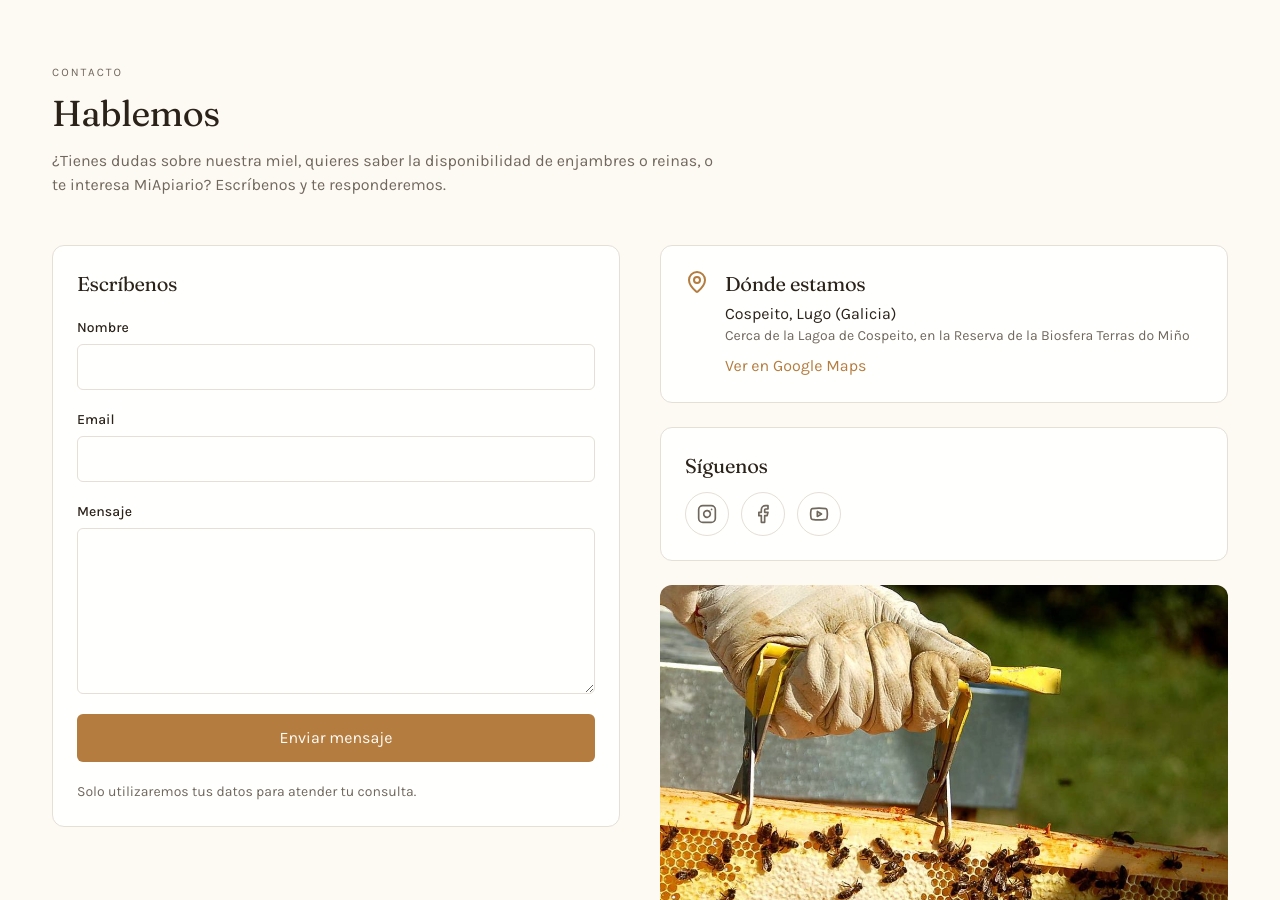
it: ContactView › muestra el error del servidor y pide un captcha nuevo
The width and height of the screenshot is (1280, 900).
Type "Ana" into the field with id "contact-name". click: x=336, y=367
box: [77, 344, 595, 390]
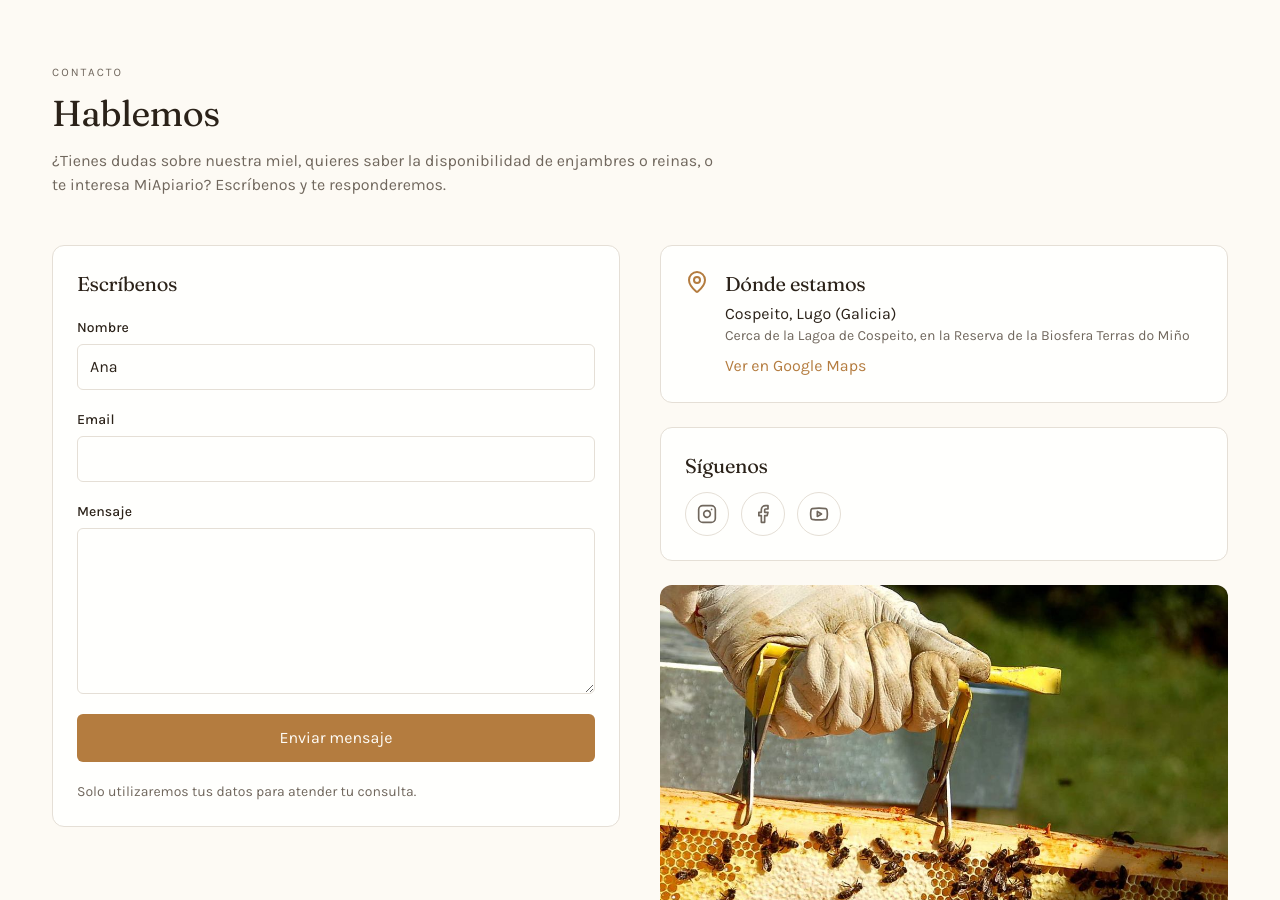
Type "ana@test.com" into the field with id "contact-email". click: x=336, y=459
box: [77, 436, 595, 482]
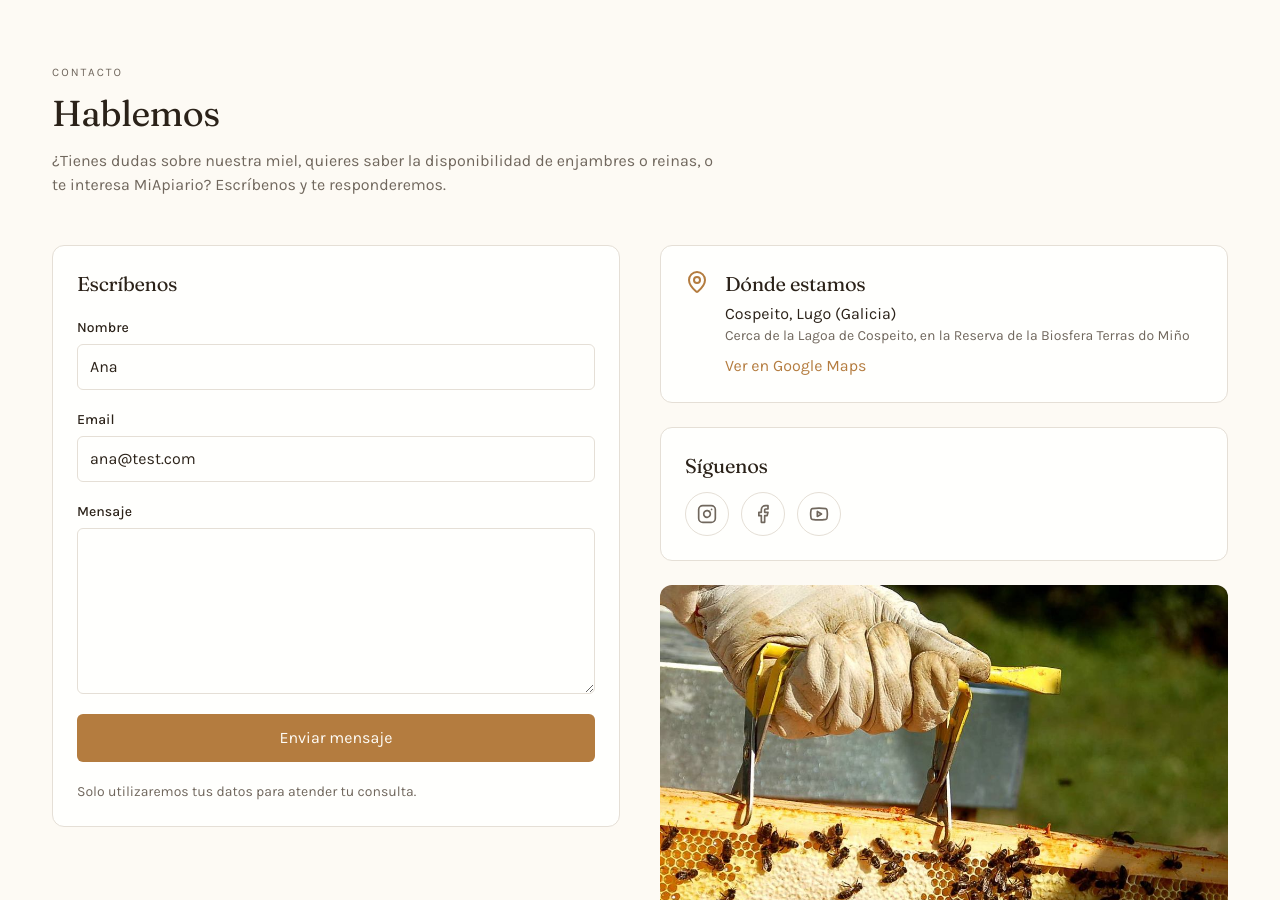
Type "¿Tenéis miel de castaño?" into the text box with id "contact-message". click: x=336, y=611
box: [77, 528, 595, 694]
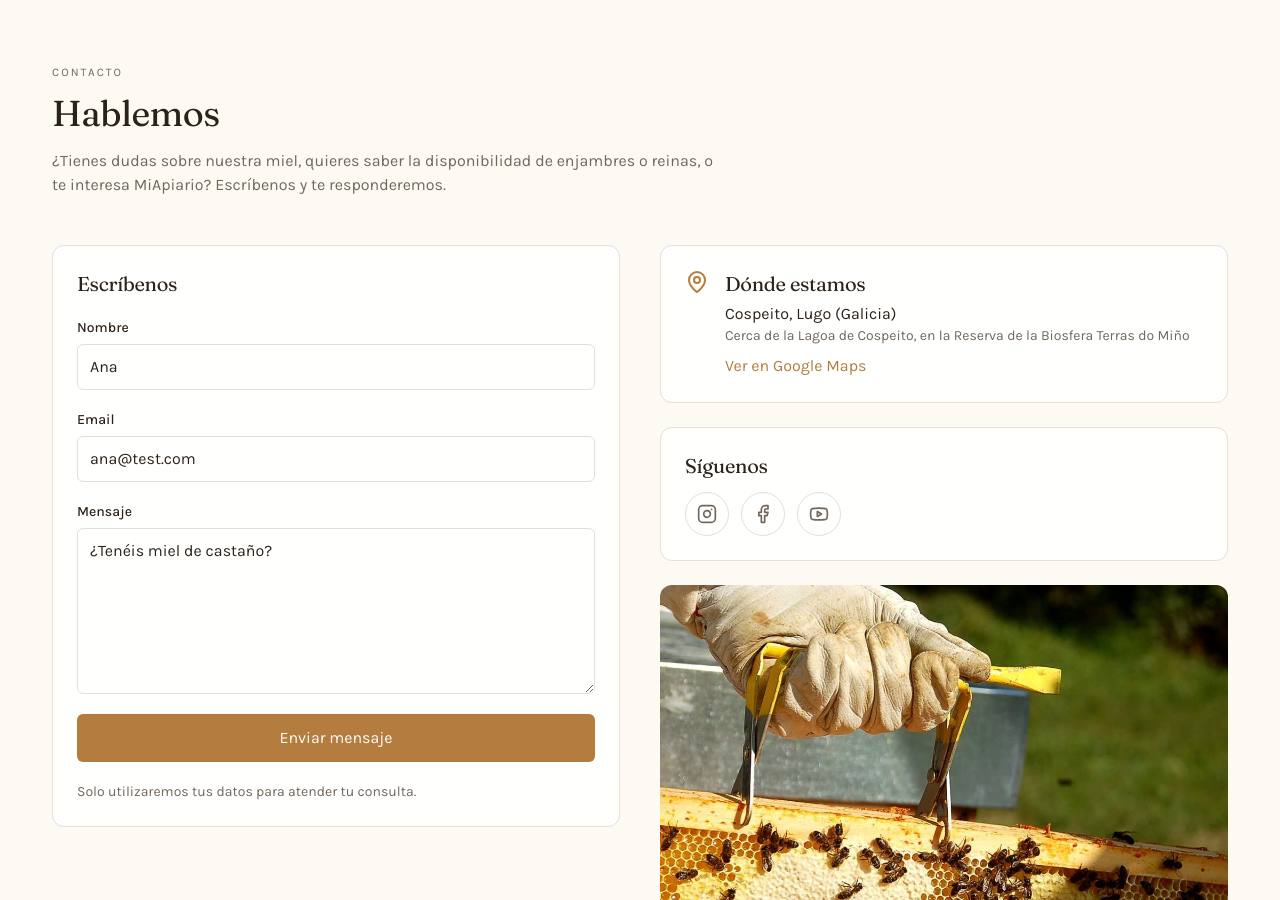
Submit the form, box [77, 318, 595, 802]
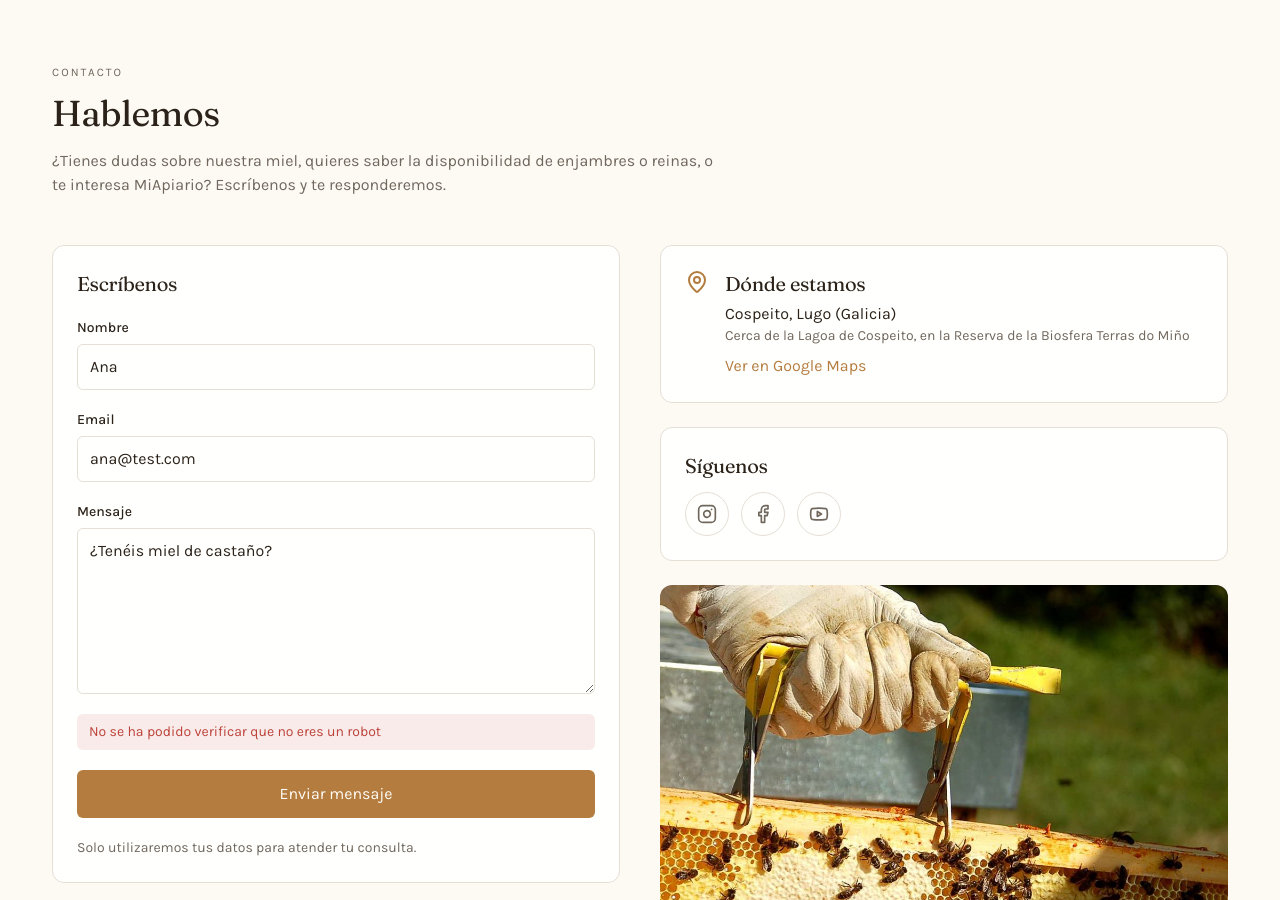
Now the message "No se ha podido verificar que no eres un robot" is shown, box [77, 714, 595, 750]
